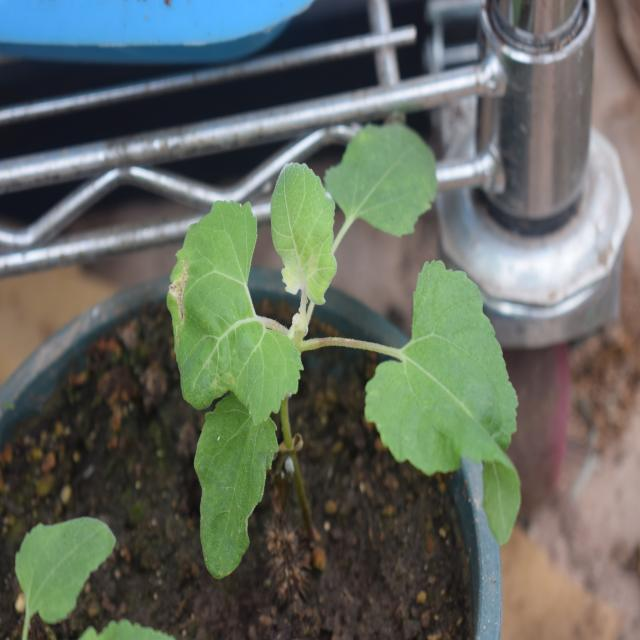cocklebur: (140, 123, 517, 546)
